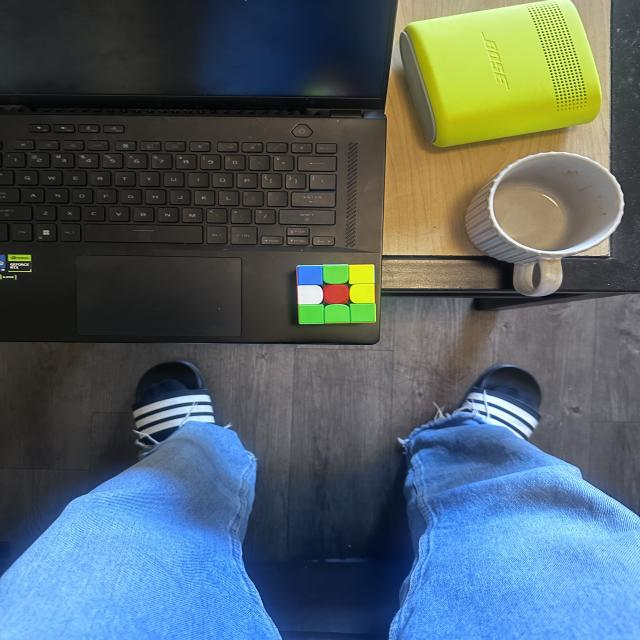sticker: (322, 283, 351, 305), (296, 265, 324, 287), (322, 264, 350, 285), (349, 283, 376, 304), (349, 302, 376, 323), (324, 303, 350, 324), (349, 264, 375, 285), (298, 304, 324, 324), (297, 285, 324, 304)
